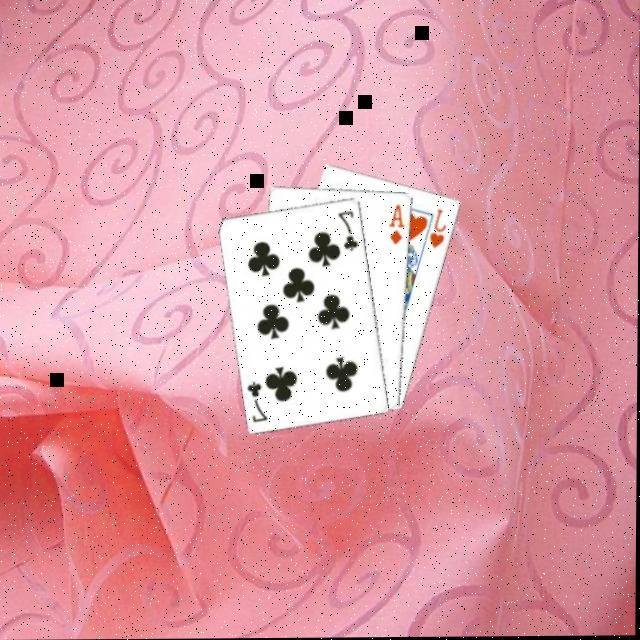7C: (246, 377, 274, 424), (336, 206, 364, 252)
AD: (388, 200, 410, 247)
JH: (429, 205, 452, 250)
